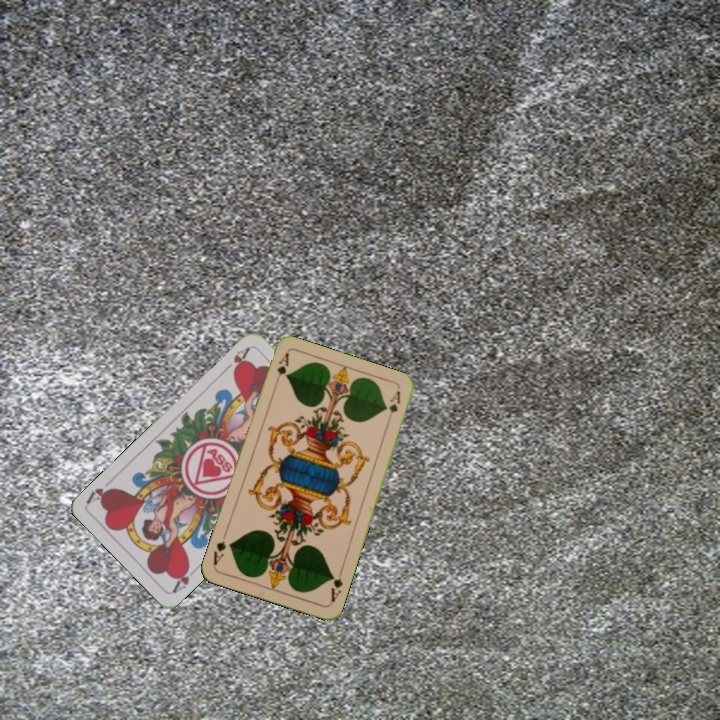GA: (326, 566, 345, 605), (273, 349, 291, 378)
HA: (219, 343, 252, 375), (169, 560, 193, 595)
